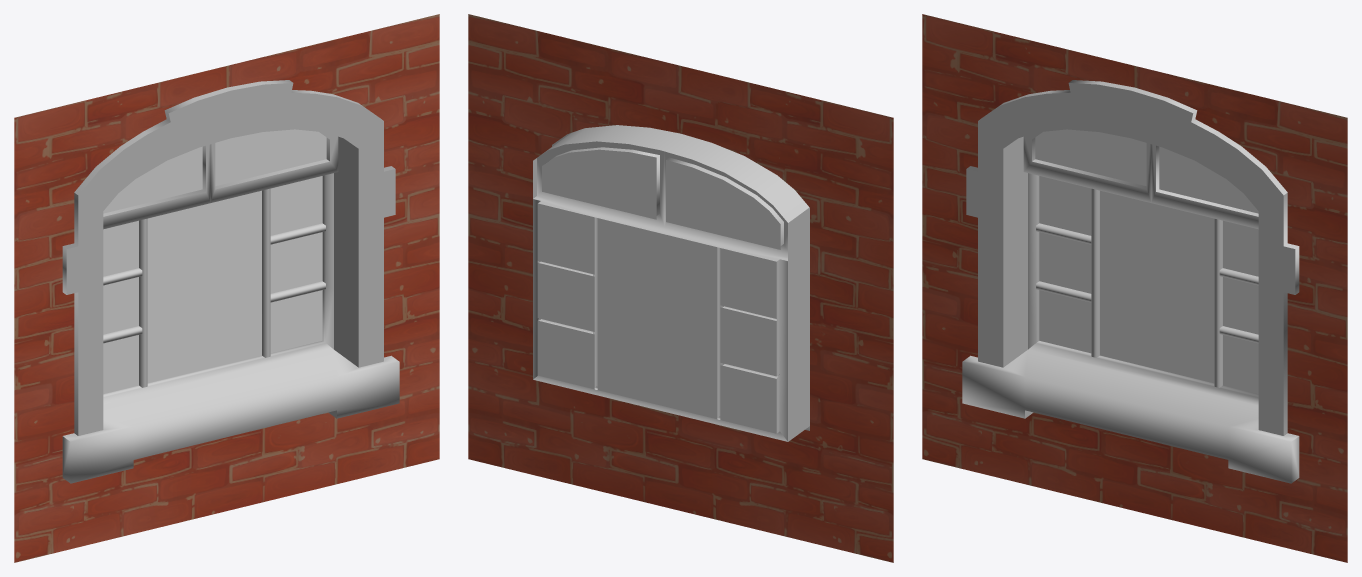
File: Window_04.fbx
3 views of the same model, side by side, from view 1: azimuth 30°, elevation 25°; view 2: azimuth 150°, elevation 25°; view 3: azimuth 330°, elevation 25° (orthographic).
Visible parts, largest first — view 1: Window_04; view 2: Window_04; view 3: Window_04.
Boxes of the visible parts, left/top/right/bottom form: Window_04: left=14, top=14, right=439, bottom=562; Window_04: left=468, top=14, right=893, bottom=562; Window_04: left=922, top=14, right=1347, bottom=562.
Size of the model in its own units: 3 by 3 by 0.3904.
